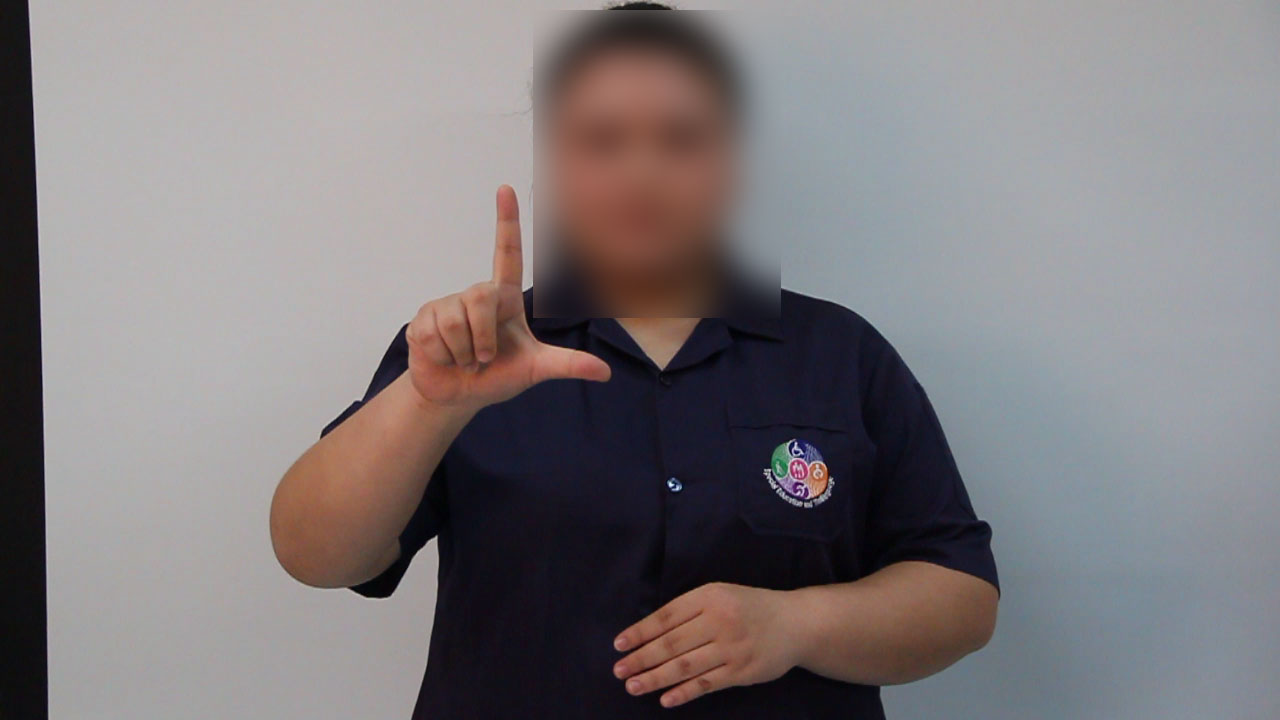lor: (377, 172, 615, 430)
